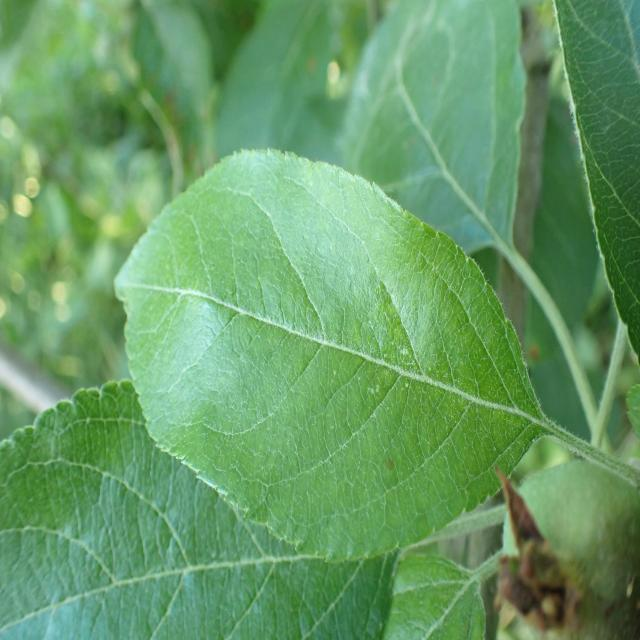healthy: (112, 146, 544, 563), (0, 378, 401, 640), (338, 0, 527, 258), (551, 0, 640, 367), (381, 554, 486, 639)
